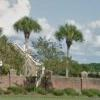Palm tree: (13, 9, 80, 62)
